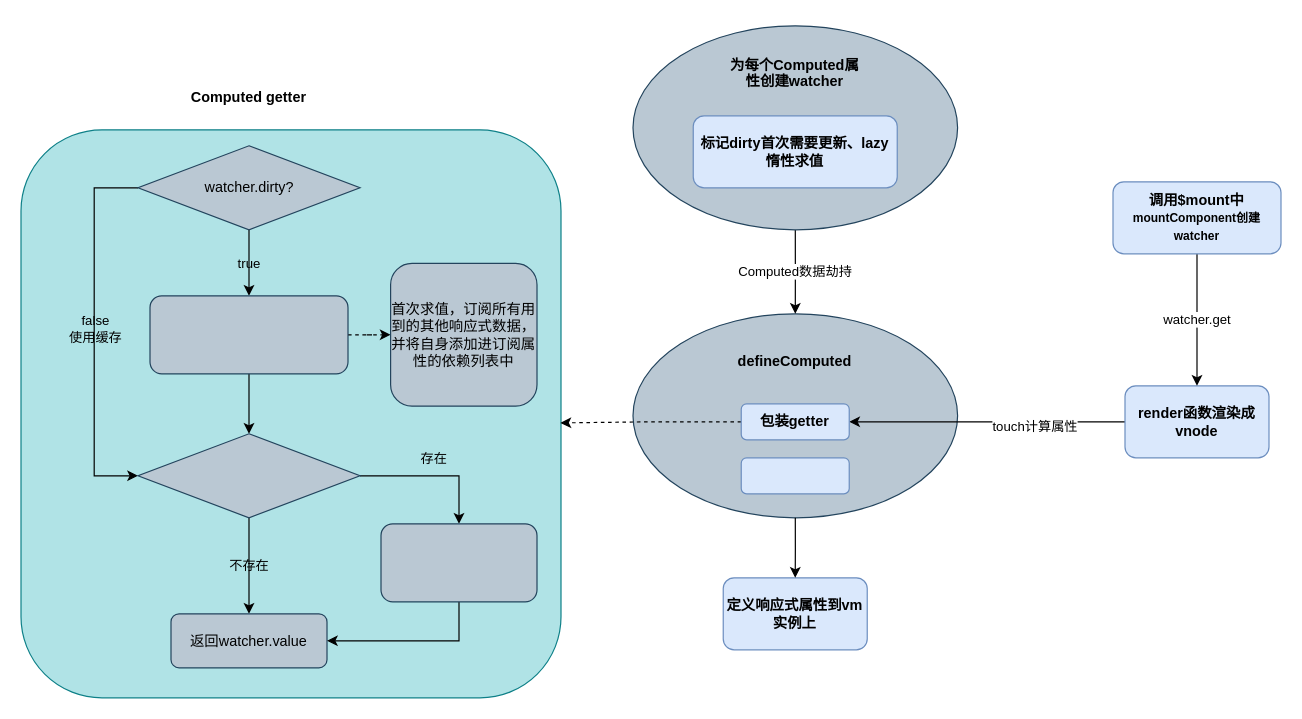
The diagram is 1302 pixels wide and 719 high, and some of its shapes have lost their labels. The centre of each missing label's shape, as x and y in pixels:
"Dep.target?" goes at pixel 248 475.
"watcher.evaluate() 重新求值、取消dirty标记" goes at pixel 248 334.
"包装setter" goes at pixel 794 475.
"将watcher的所有依赖添加进Dep.target的依赖中" goes at pixel 458 562.
